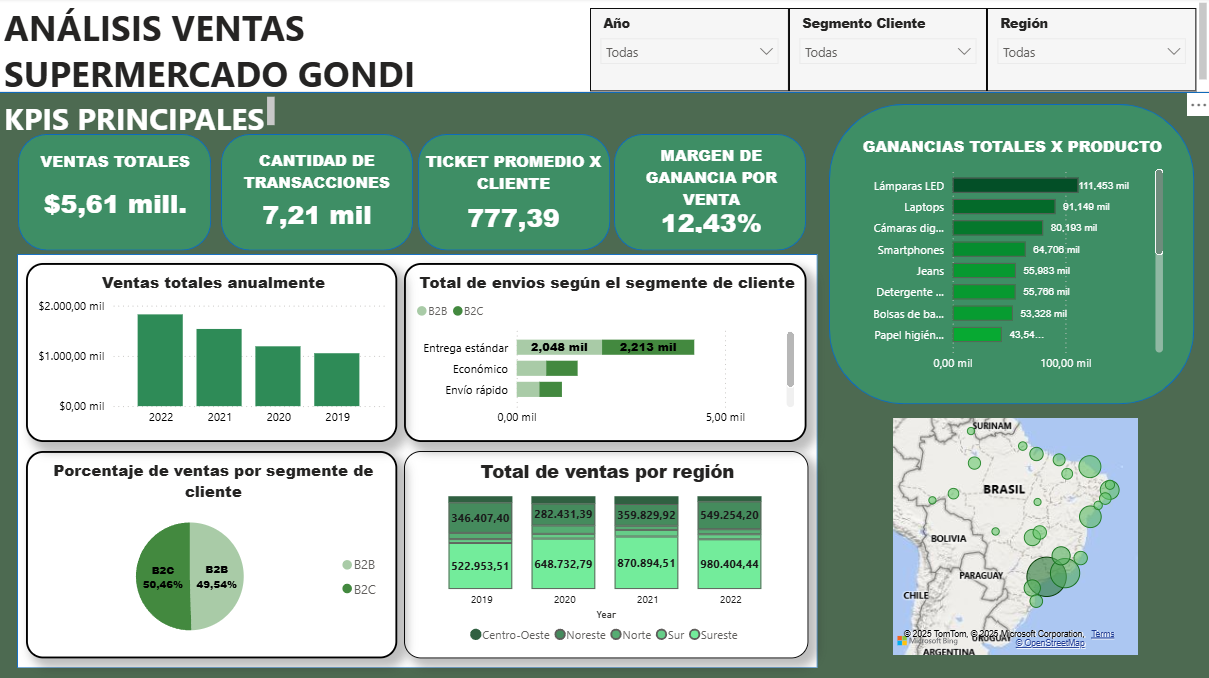

Layout of this report page (visuals, bound fields, positions):
{"tool":"powerbi","page":{"name":"Ventas Gondi","canvas":[1280,720],"ordinal":0},"visuals":[{"type":"shape","box":[0,98.8,1280.3,621.6],"z":0},{"type":"textbox","box":[0,0,1280.3,98.8],"z":1000},{"type":"slicer","fields":{"Values":["DIMFecha.Año"]},"box":[624.4,11,209.9,87.8],"z":2000},{"type":"slicer","fields":{"Values":["DIMCliente.segmento_cliente"]},"box":[834.3,11,208.6,87.8],"z":3000},{"type":"slicer","fields":{"Values":["DIMRegion.region"]},"box":[1042.9,11,220.9,87.8],"z":4000},{"type":"textbox","box":[0,98.8,296.4,46.4],"z":5000},{"type":"shape","box":[875.9,112.3,385.6,317],"z":6000},{"type":"shape","box":[442,143.5,203,123],"z":7000},{"type":"shape","box":[234.7,143.5,202.8,123],"z":8000},{"type":"shape","box":[20.5,143.5,203.9,123],"z":9000},{"type":"shape","box":[19.4,270,845.3,437.5],"z":10000},{"type":"card","title":"VENTAS TOTALES","fields":{"Values":["Medidas.Ventas por Año"]},"box":[10.3,160.6,224.4,91.1],"z":11000},{"type":"card","title":"CANTIDAD DE TRANSACCIONES","fields":{"Values":["Medidas.NumeroTransacciones"]},"box":[229,159.5,213,93.4],"z":12000},{"type":"card","title":"TICKET PROMEDIO X CLIENTE","fields":{"Values":["Medidas.TicketPromedio"]},"box":[427.2,160.6,231.3,98],"z":13000},{"type":"clusteredBarChart","title":"GANANCIAS TOTALES X PRODUCTO","fields":{"Y":["Medidas.Ganancias Totales"],"Category":["DIMProducto.tipo_producto"]},"box":[905.7,144.7,328.1,258.6],"z":14000},{"type":"map","fields":{"Category":["DIMRegion.estado"],"Size":["Medidas.Ventas por Año"]},"box":[938.1,438.1,269,259.5],"z":15000},{"type":"barChart","title":"Total de envios según el segmente de cliente","fields":{"Y":["Medidas.Conteo"],"Category":["DIMEnvio.modo_envio"],"Series":["DIMCliente.segmento_cliente"]},"box":[427.2,280.3,424.9,189.1],"z":16000},{"type":"pieChart","title":"Porcentaje de ventas por segmente de cliente","fields":{"Y":["Sum(FACTVentas.total_ganancia)"],"Series":["DIMCliente.segmento_cliente"]},"box":[28.5,478.5,391.9,218.7],"z":17000},{"type":"columnChart","title":"Ventas totales anualmente","fields":{"Y":["Medidas.Ventas por Año"],"Category":["DIMFecha.Año"]},"box":[28.5,280.3,391.9,189.1],"z":18000},{"type":"hundredPercentStackedColumnChart","title":"Total de ventas por región ","fields":{"Y":["Sum(FACTVentas.total_venta)"],"Series":["DIMRegion.region"],"Category":["DIMFecha.fecha_id.Variación.Date Hierarchy.Year"]},"box":[427.2,478.5,427.2,218.7],"z":19000},{"type":"shape","box":[649.4,143.5,202.8,123],"z":20000},{"type":"card","title":"MARGEN DE GANANCIA POR VENTA","fields":{"Values":["Medidas.MargenGanancia"]},"box":[652.8,153.8,199.4,99.1],"z":21500}]}

Visuals, with their boxes in screenshot pixels (x1, y1, x2, y2), scaled from the page's 1280x720 canvas onto the 1209x678 screenshot:
shape: BBox(0, 93, 1208, 677)
textbox: BBox(0, 0, 1208, 93)
slicer - DIMFecha.Año: BBox(590, 10, 788, 93)
slicer - DIMCliente.segmento_cliente: BBox(788, 10, 985, 93)
slicer - DIMRegion.region: BBox(985, 10, 1194, 93)
textbox: BBox(0, 93, 280, 137)
shape: BBox(827, 106, 1192, 404)
shape: BBox(417, 135, 609, 251)
shape: BBox(222, 135, 413, 251)
shape: BBox(19, 135, 212, 251)
shape: BBox(18, 254, 817, 666)
"VENTAS TOTALES" card: BBox(10, 151, 222, 237)
"CANTIDAD DE TRANSACCIONES" card: BBox(216, 150, 417, 238)
"TICKET PROMEDIO X CLIENTE" card: BBox(404, 151, 622, 244)
"GANANCIAS TOTALES X PRODUCTO" clusteredBarChart: BBox(855, 136, 1165, 380)
map - DIMRegion.estado x Medidas.Ventas por Año: BBox(886, 413, 1140, 657)
"Total de envios según el segmente de cliente" barChart: BBox(404, 264, 805, 442)
"Porcentaje de ventas por segmente de cliente" pieChart: BBox(27, 451, 397, 657)
"Ventas totales anualmente" columnChart: BBox(27, 264, 397, 442)
"Total de ventas por región " hundredPercentStackedColumnChart: BBox(404, 451, 807, 657)
shape: BBox(613, 135, 805, 251)
"MARGEN DE GANANCIA POR VENTA" card: BBox(617, 145, 805, 238)
